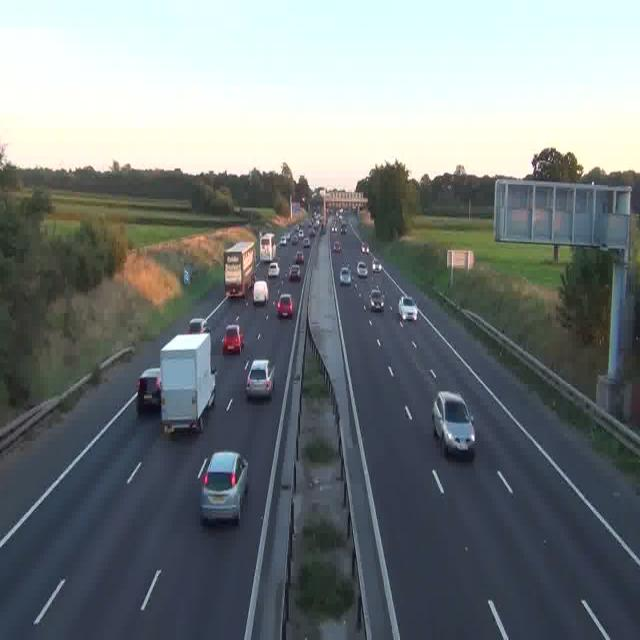bus: (224, 242, 256, 296), (260, 230, 276, 265)
car: (200, 452, 248, 524), (432, 390, 474, 459), (136, 368, 164, 413), (246, 359, 274, 398), (222, 324, 244, 353), (398, 296, 418, 322), (252, 277, 269, 304), (277, 295, 293, 318), (185, 318, 208, 334), (369, 288, 384, 312), (340, 267, 352, 286), (357, 262, 369, 278), (289, 265, 301, 281), (267, 260, 279, 276), (295, 251, 305, 265), (371, 259, 381, 272), (333, 241, 341, 252), (361, 242, 369, 253), (306, 234, 314, 245)
truck: (160, 330, 216, 434)
